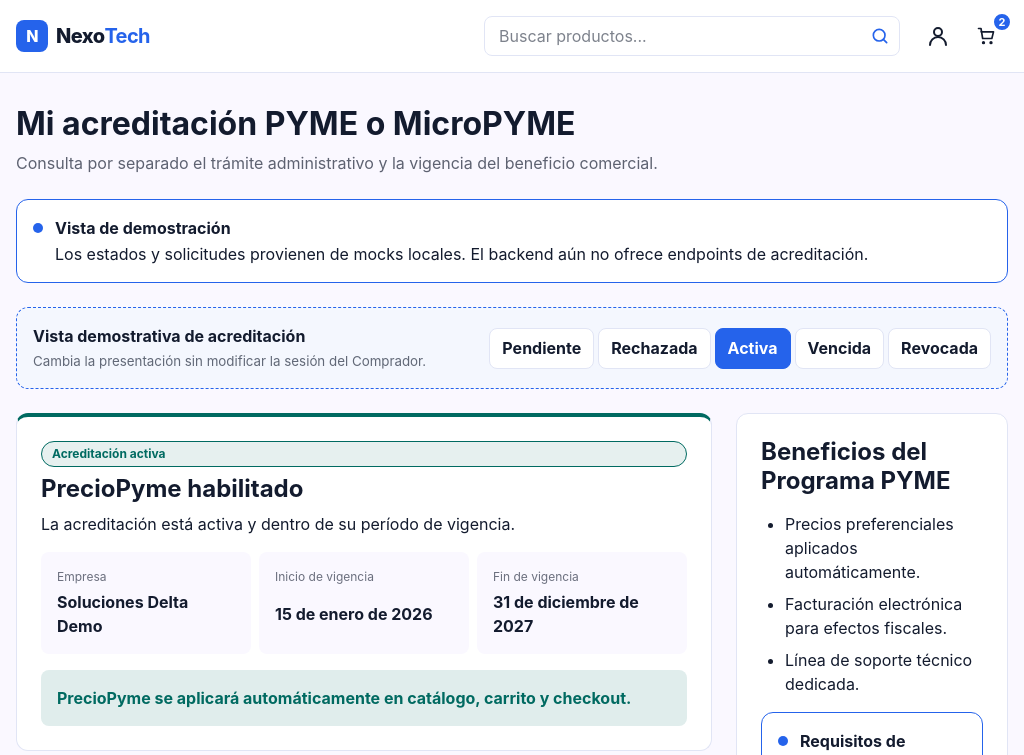
AccreditationStatusPage › presenta la variante Vencida desde sus tabs
The width and height of the screenshot is (1024, 755).
Step 1. Click the button "Vencida" → (839, 348), box [794,328,884,369]
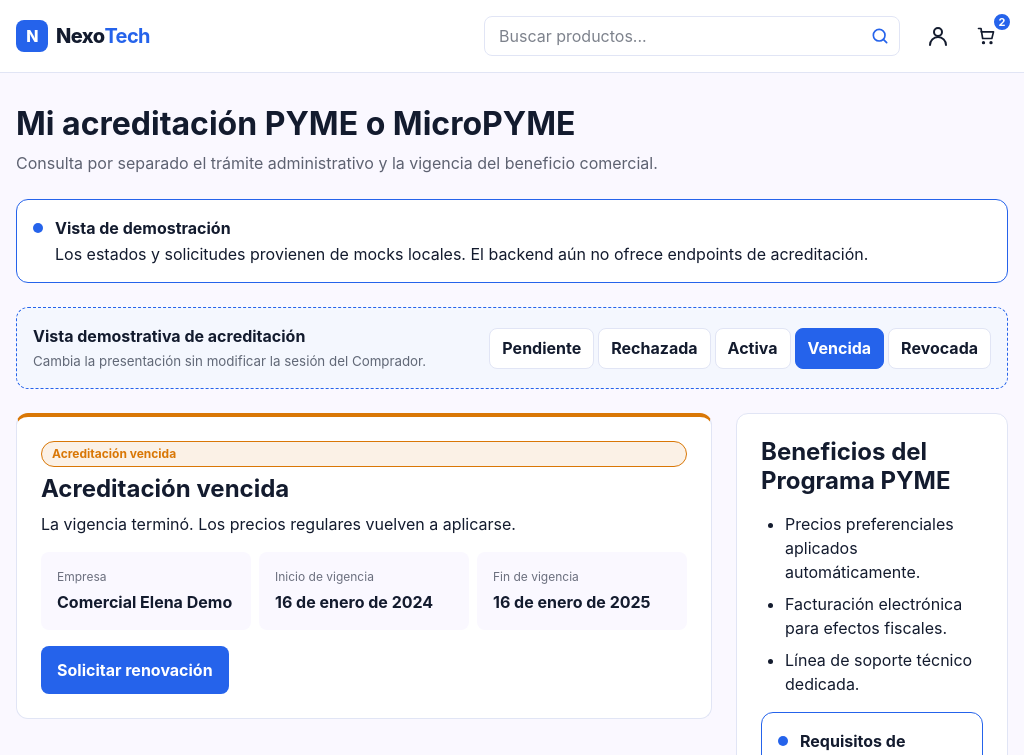
Check: the heading "Acreditación vencida" is shown, box [41,474,289,503]
